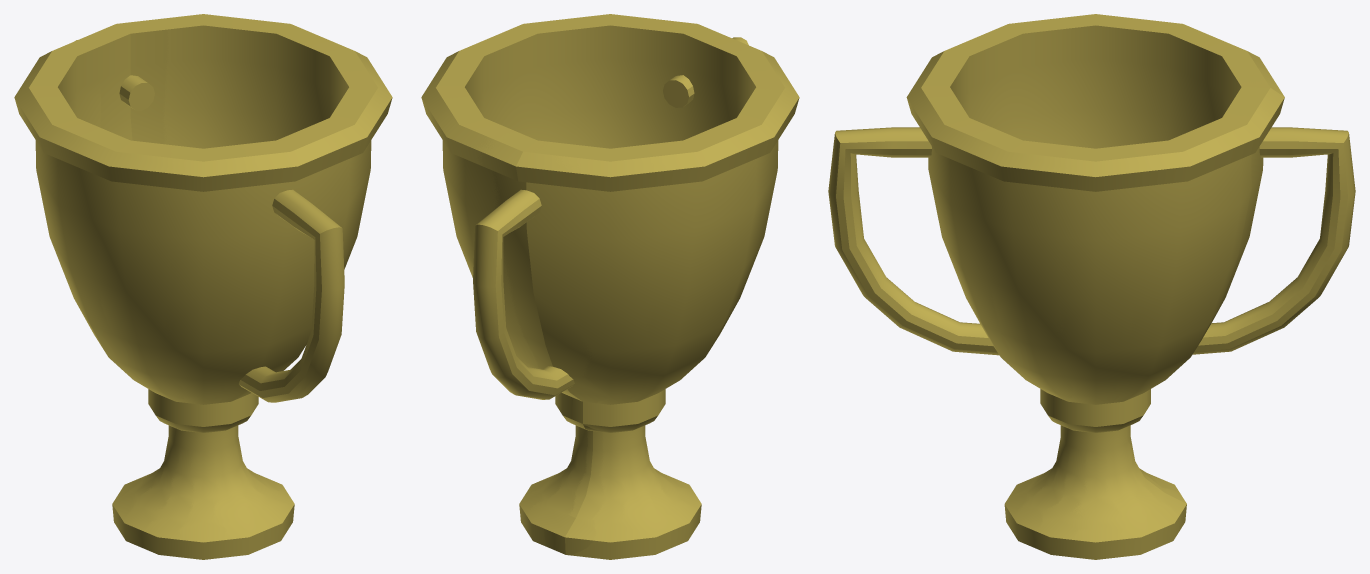
Rendered from trophy.fbx.
The picture shows the model from 3 angles, left to right: view 1: azimuth 30°, elevation 25°; view 2: azimuth 150°, elevation 25°; view 3: azimuth 270°, elevation 25°; orthographic projection.
Parts seen in each view (by area): view 1: 큐브, 평면.001, 평면; view 2: 큐브, 평면, 평면.001; view 3: 큐브, 평면.001, 평면.
Part boxes in pixels (box(x1,y1,x2,y2)): 큐브: box(14, 14, 392, 559); 평면.001: box(239, 189, 344, 402); 평면: box(75, 40, 154, 110); 큐브: box(421, 14, 799, 559); 평면: box(473, 189, 574, 399); 평면.001: box(663, 37, 748, 107); 큐브: box(906, 14, 1284, 559); 평면.001: box(828, 127, 998, 355); 평면: box(1193, 127, 1355, 354).
Size of the model in its own units: 100 by 127 by 140.
